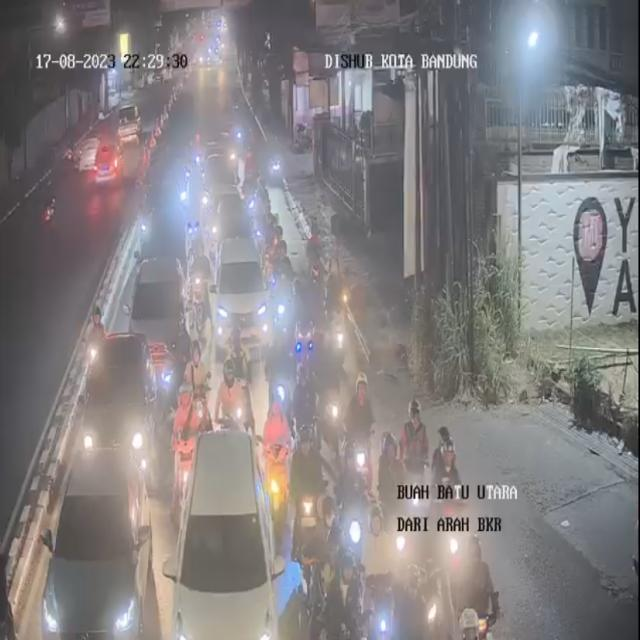cars: (169, 425, 281, 637), (35, 449, 143, 640), (72, 331, 154, 490), (119, 250, 190, 364), (214, 230, 272, 364)
motorcycle: (344, 369, 376, 498), (172, 374, 201, 506), (290, 269, 325, 375), (337, 483, 372, 588), (299, 488, 333, 594), (262, 380, 290, 503), (435, 420, 461, 546), (221, 332, 252, 434), (324, 570, 362, 639), (291, 360, 318, 456), (190, 301, 213, 380), (190, 243, 214, 310), (272, 233, 293, 307), (402, 396, 424, 448), (232, 102, 251, 160), (204, 196, 222, 254), (266, 143, 284, 190), (263, 205, 280, 252), (307, 622, 341, 640)
